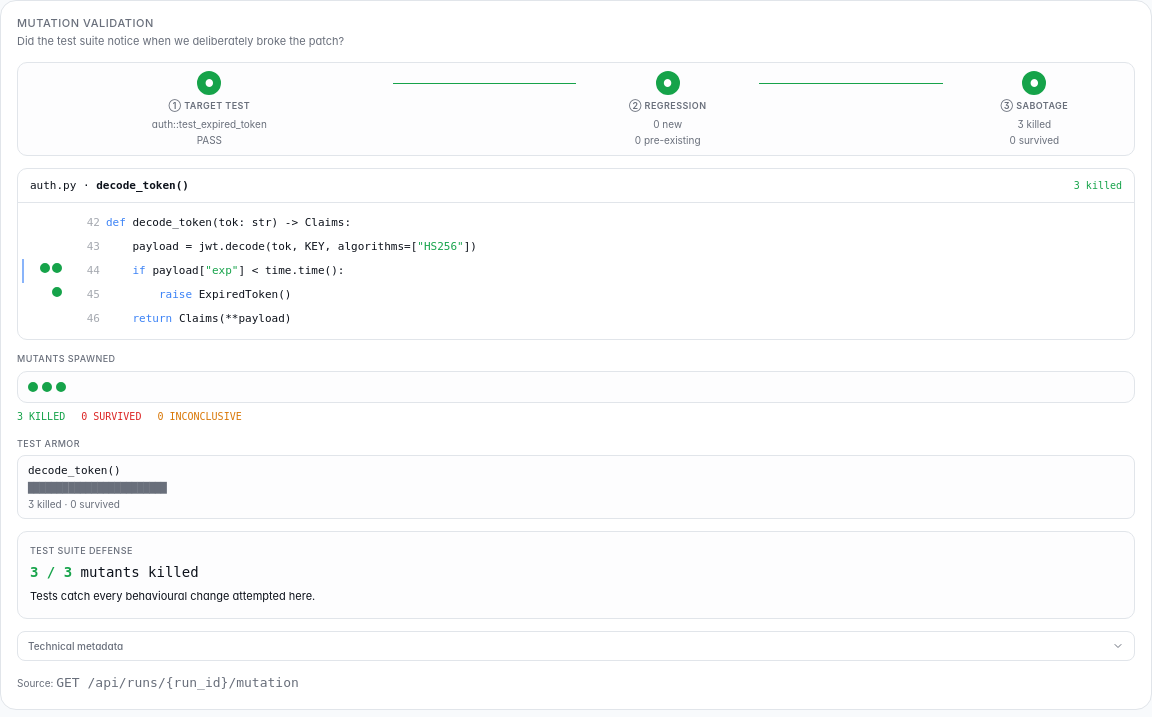
it: MutationValidationPanel › expands a killed mutant's compact card on click, without claiming which test caught it
Expected: the text "44" is shown, [87,264,100,277]
Expected: the text "a test in the suite detected this mutation" is not shown
Click the 1st button titled "a test detected this mutation" at [45, 268], box [40,263,50,273]
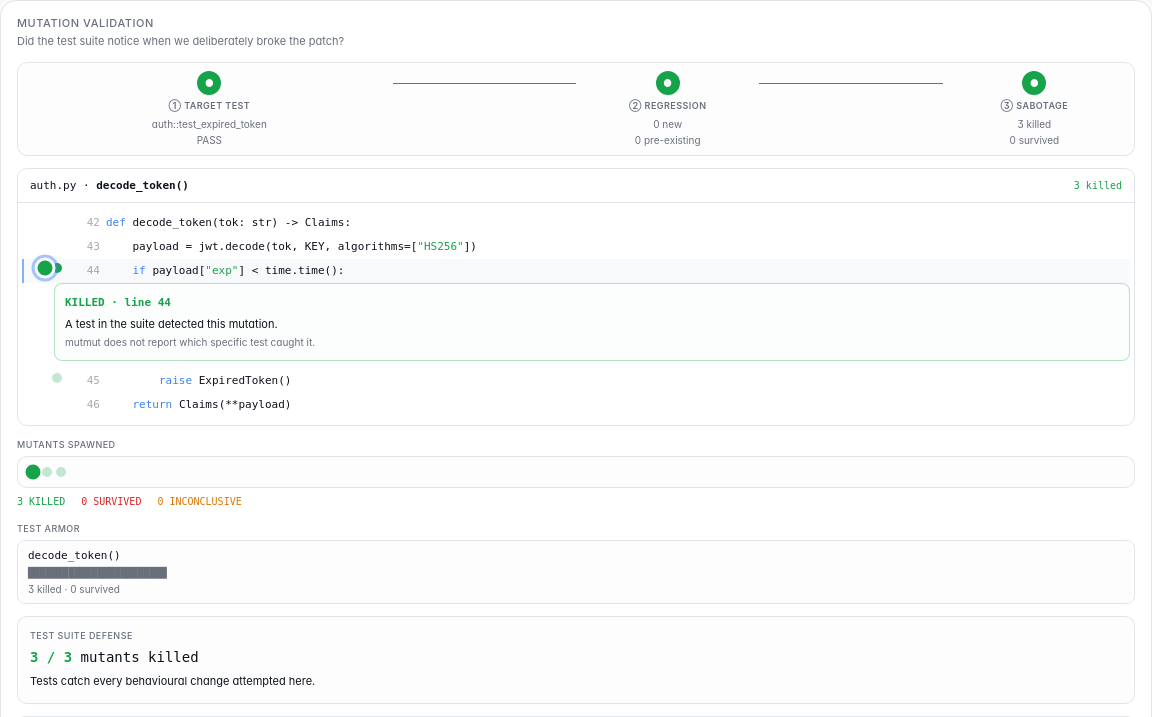
Now the text "A test in the suite detected this mutation." is shown, box [65,317,278,331]
Now the text "mutmut does not report which specific test caught it." is shown, box [65,336,315,348]
